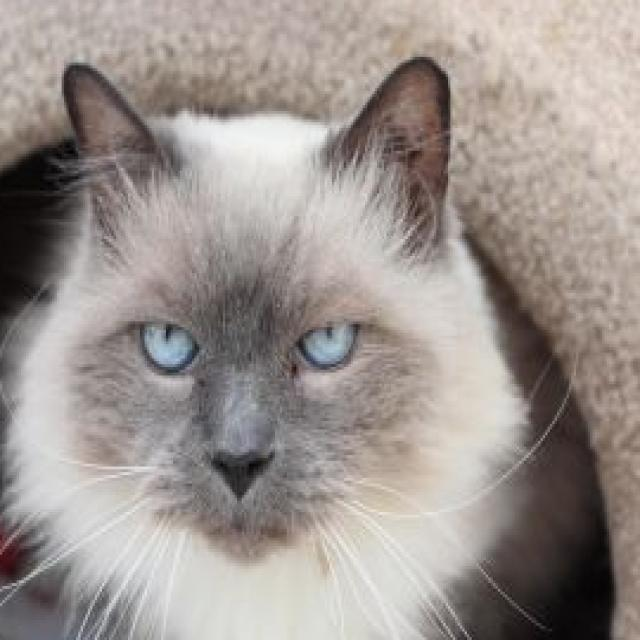Birman: (0, 51, 538, 640)
